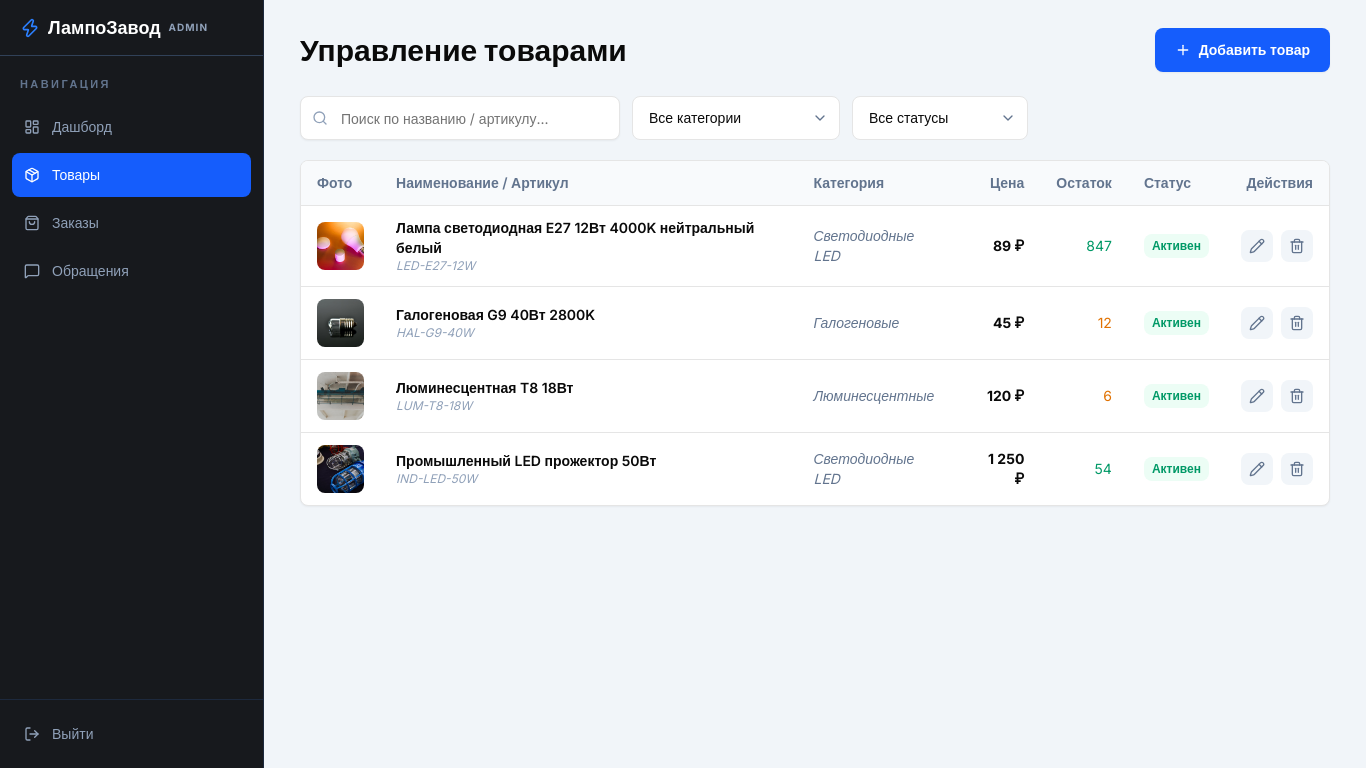
Test: loads admin products from the product management API and filters them
Select "Галогеновые" in the dropdown named "Категория" at (736, 118), box [632,96,840,140]
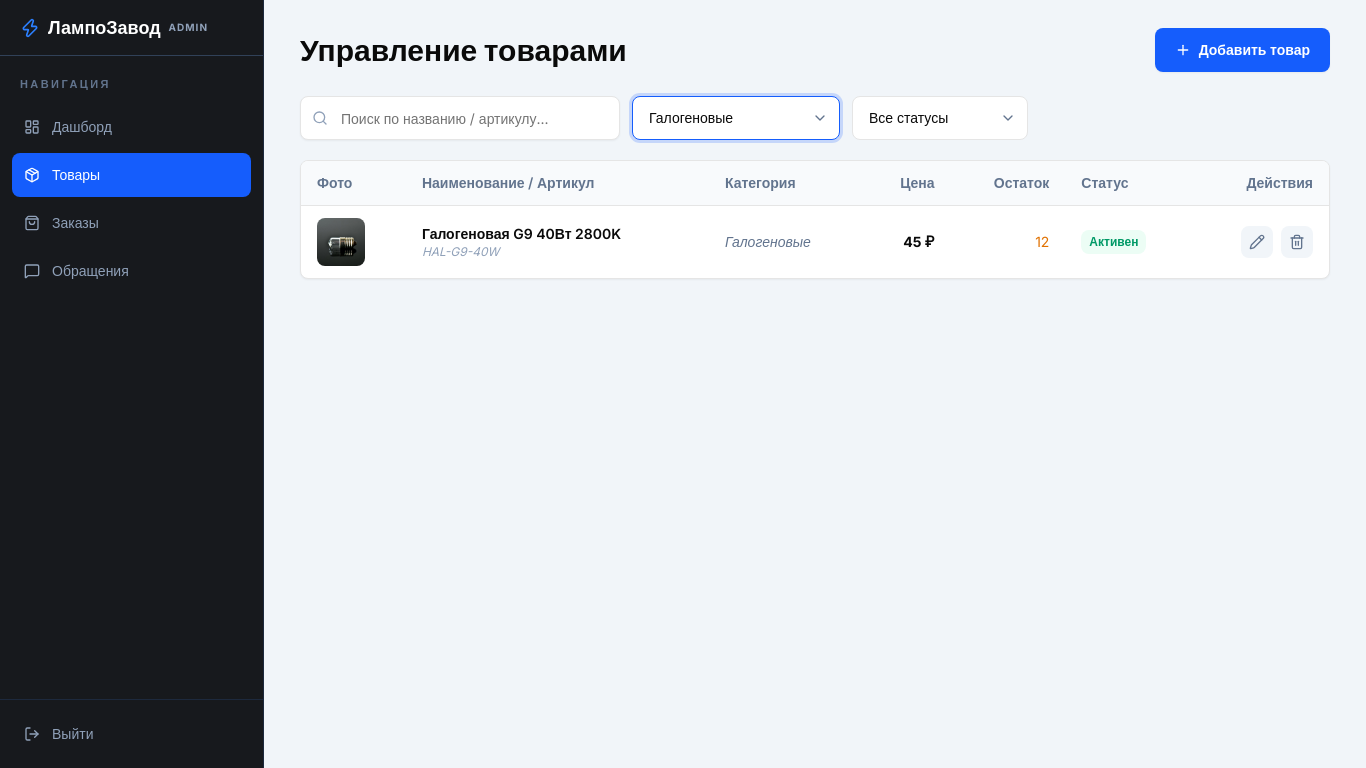
Check: the text "Галогеновая G9 40Вт 2800K" is shown, box [422,225,621,242]
Check: the text "Лампа светодиодная E27 12Вт 4000K нейтральный белый" is gone
Select "Все категории" in the dropdown named "Категория" at (736, 118), box [632,96,840,140]
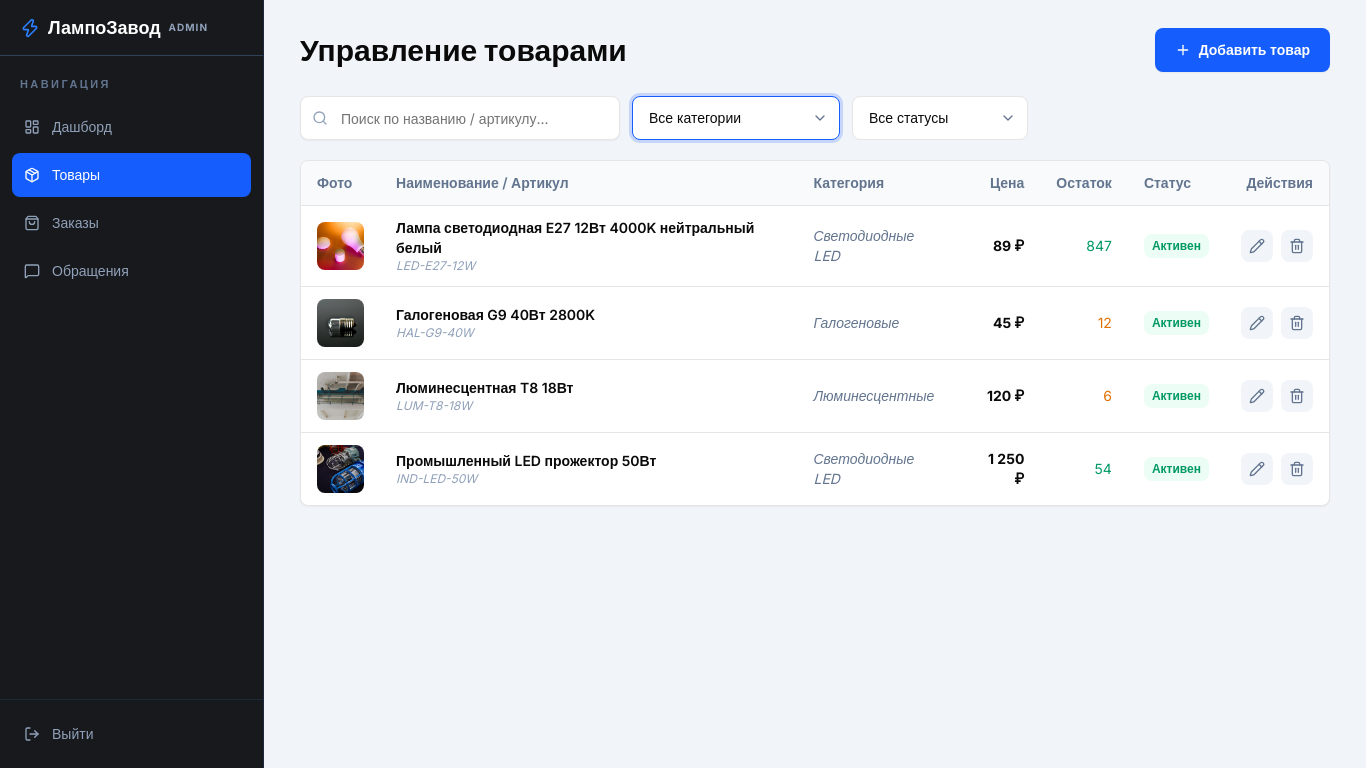
Type "ind" into the search field named "Поиск по товару" at (460, 118), box [300,96,620,140]
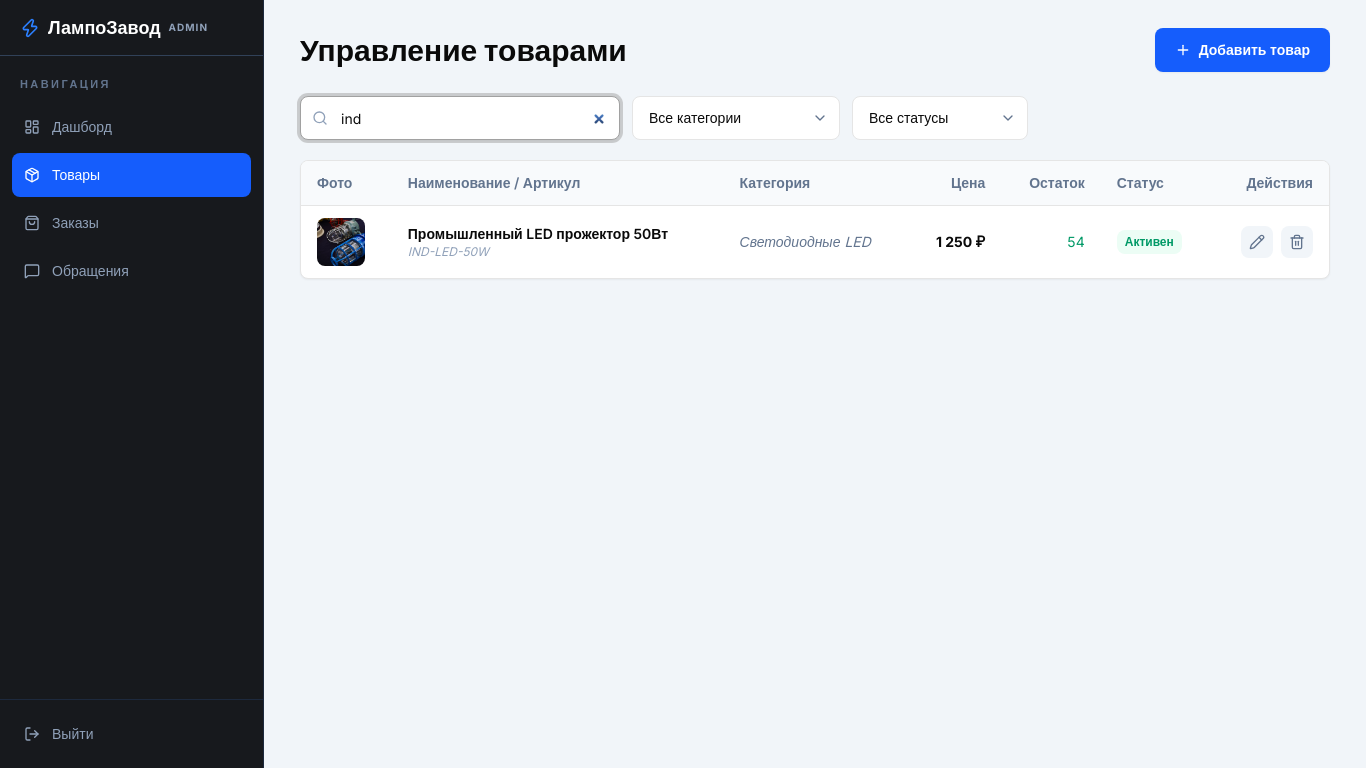
Check: the text "Промышленный LED прожектор 50Вт" is shown, box [408,224,708,244]
Check: the text "Лампа светодиодная E27 12Вт 4000K нейтральный белый" is gone
